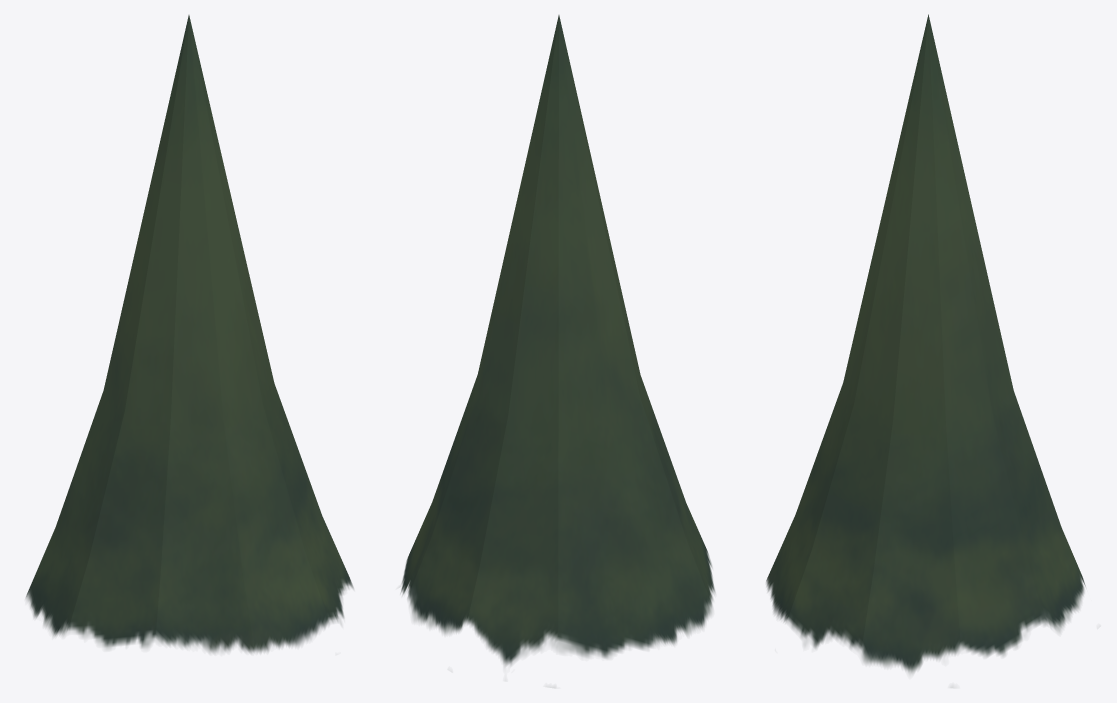
Rendered from polysurface132_lambert6_0_lev2.glb.
3 views of the same model, side by side, from view 1: azimuth 30°, elevation 25°; view 2: azimuth 150°, elevation 25°; view 3: azimuth 270°, elevation 25° (orthographic).
Parts seen in each view (by area): view 1: polysurface132_lambert6_0_lev2; view 2: polysurface132_lambert6_0_lev2; view 3: polysurface132_lambert6_0_lev2.
Part boxes in pixels (x1,y1,x2,y2): polysurface132_lambert6_0_lev2: [26, 15, 353, 653]; polysurface132_lambert6_0_lev2: [401, 15, 715, 665]; polysurface132_lambert6_0_lev2: [766, 14, 1085, 673].
Size of the model in its own units: 2.69 by 5.19 by 2.73.
Materials: 1 (1 with a texture image).
